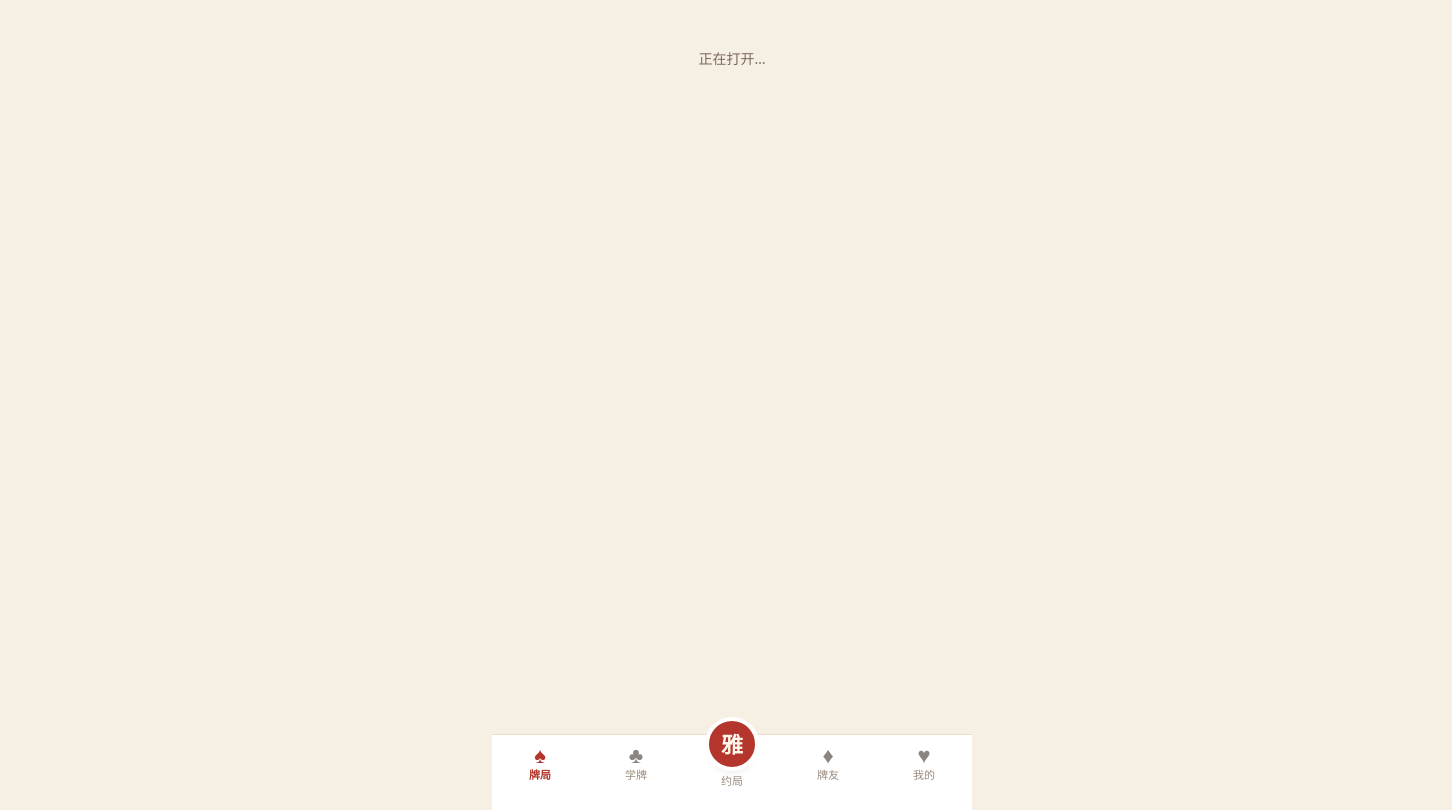
Test case: App › 点「约局」直接开 08 表单，不去蛋蛋页
Expected: the navigation bar with class "tabbar" is shown, [492,734,972,809]
What coordinates should you click on to do the following:
click the button with class "tab" showing "雅 约局"
I would click on:
 (732, 764)
Its box is [684,717,780,809].
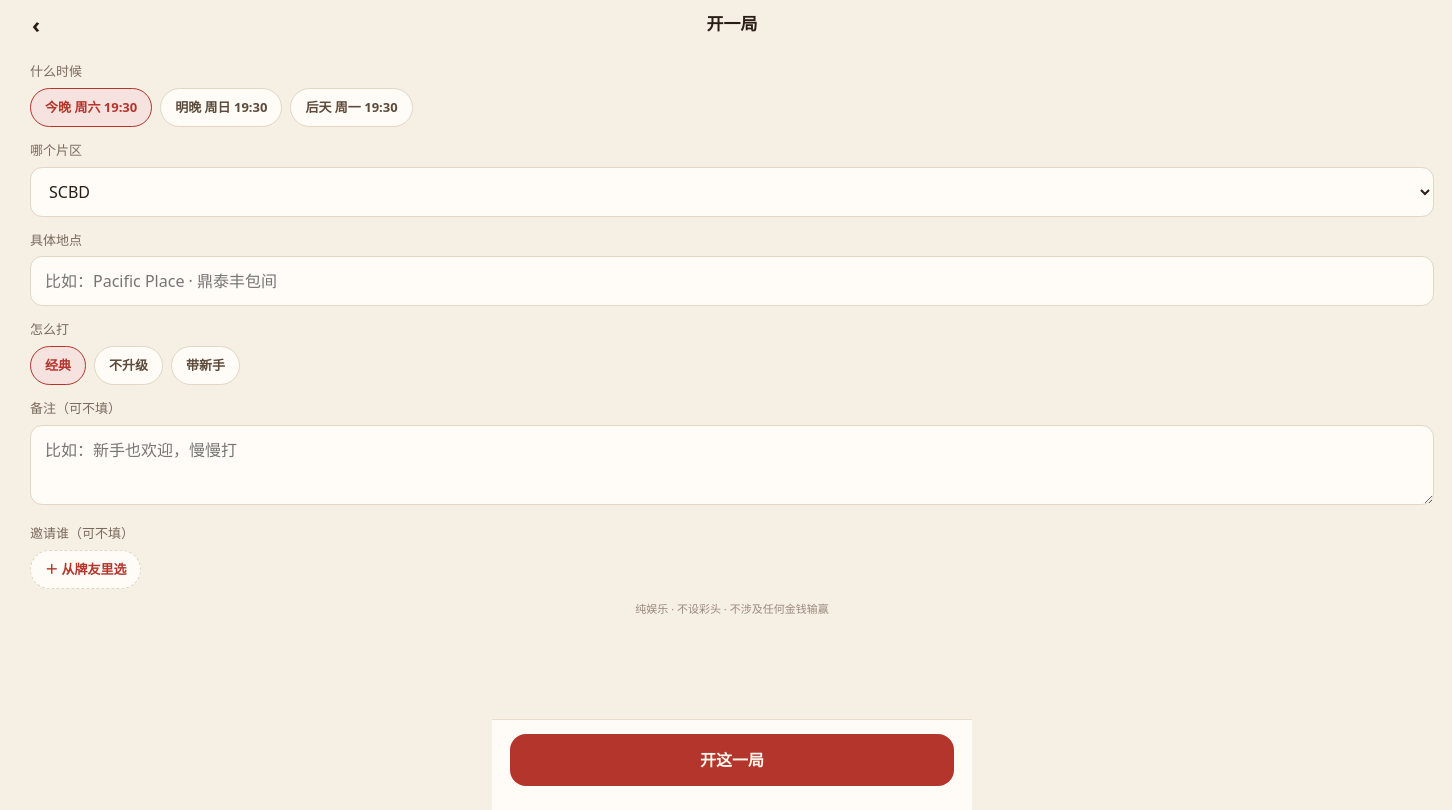
Expected: the text "开一局" is shown, [706,12,758,35]
